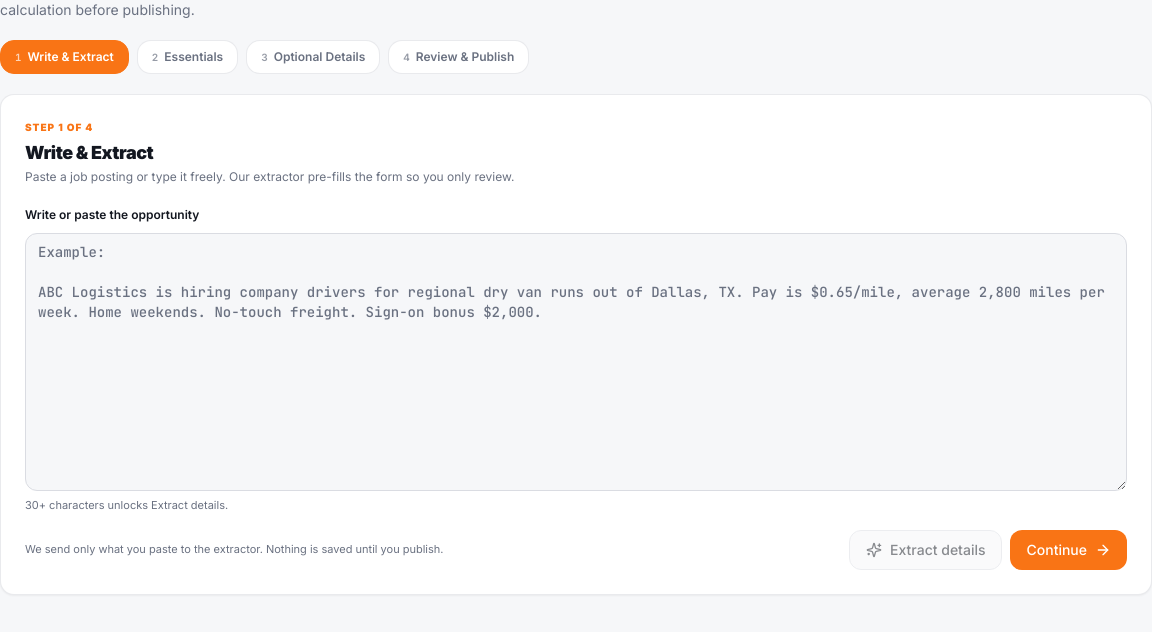
Phase 1O-A — pay-model conditional inputs › Percentage reveals its required inputs and hides every other pay-model input
Click the tab "2Essentials" at [188, 57], box [137,40,238,74]
(page scrolled)
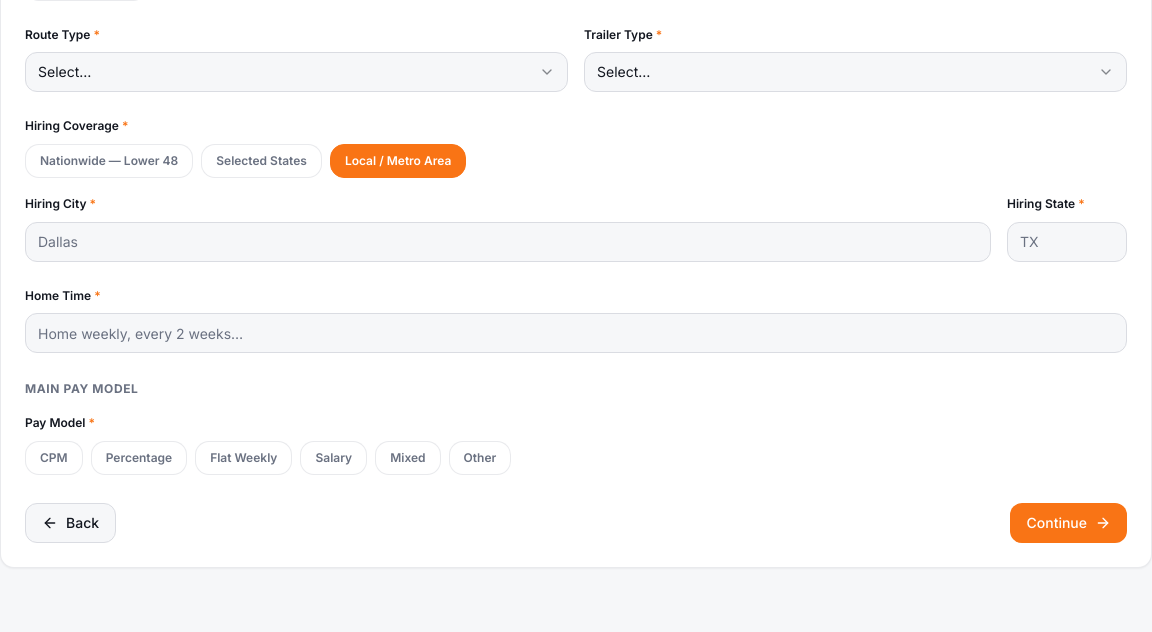
Click the button "Percentage" at [139, 458], box [91,441,187,475]
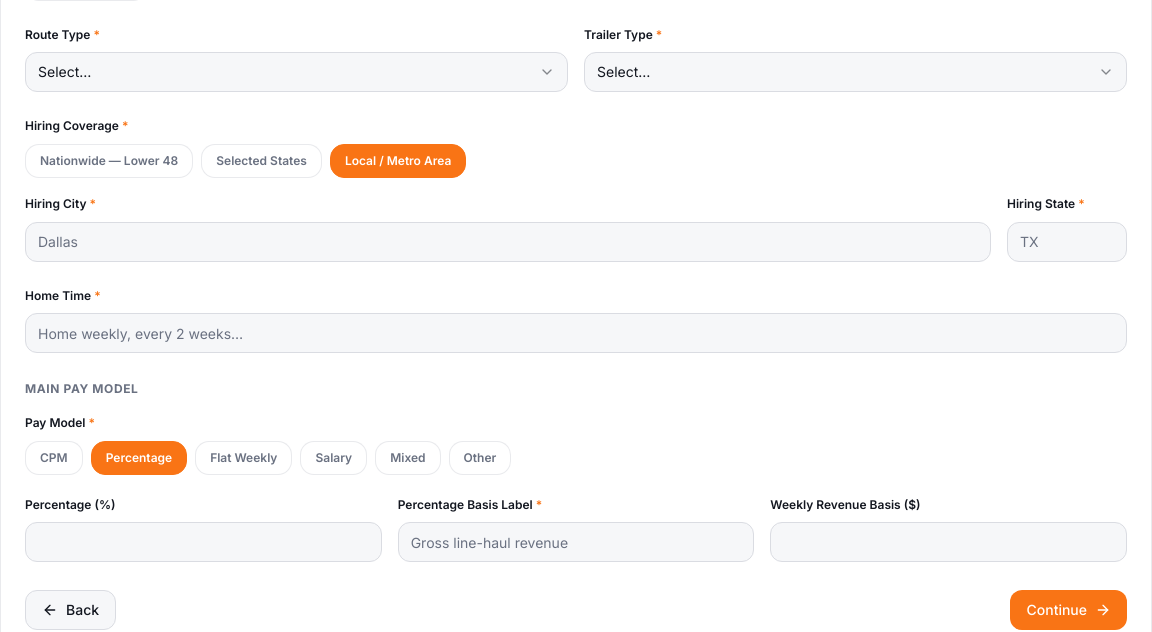
Expected: the number field named "Percentage (%)" is shown, [25,522,382,562]
Expected: the field named "Percentage Basis Label" is shown, [398,522,754,562]
Expected: the number field named "Weekly Revenue Basis ($)" is shown, [770,522,1127,562]
